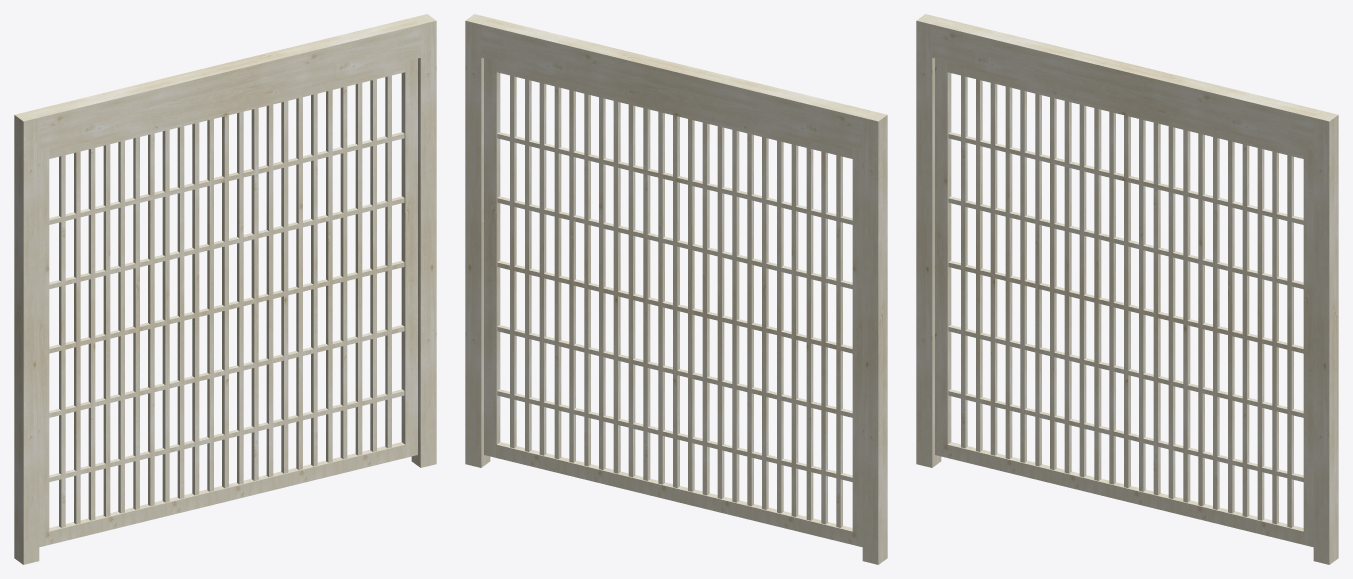
File: EShosogoushi_h2000_whitepine.fbx
3 views of the same model, side by side, from view 1: azimuth 30°, elevation 25°; view 2: azimuth 150°, elevation 25°; view 3: azimuth 330°, elevation 25° (orthographic).
Parts seen in each view (by area): view 1: EShosogoushi_h2000_whitepine; view 2: EShosogoushi_h2000_whitepine; view 3: EShosogoushi_h2000_whitepine.
Boxes of the visible parts, <box> form: EShosogoushi_h2000_whitepine: <box>14,14,436,564</box>; EShosogoushi_h2000_whitepine: <box>465,14,887,564</box>; EShosogoushi_h2000_whitepine: <box>916,14,1338,564</box>.
Size of the model in its own units: 195 by 200 by 7.5.
1 material, 1 textured.
